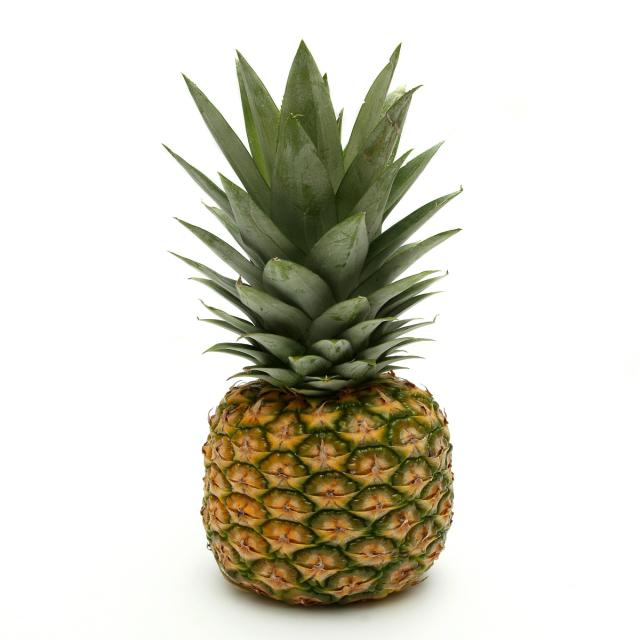pineapple: (177, 272, 471, 611)
